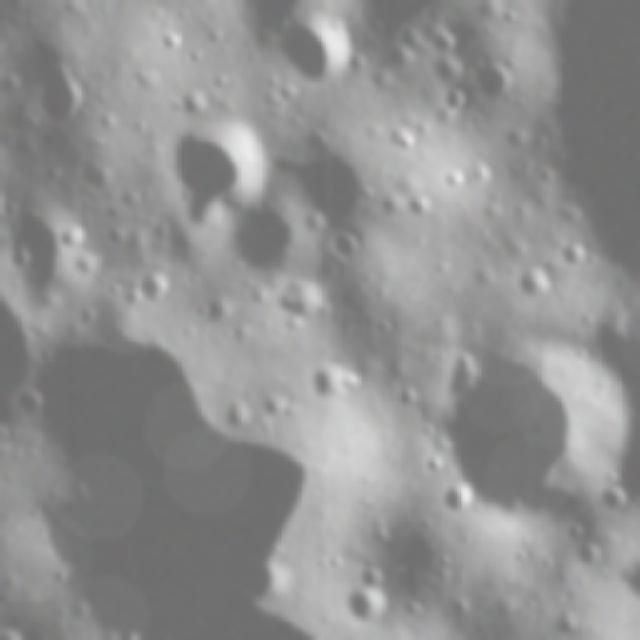crater: (410, 324, 627, 521), (161, 104, 288, 225), (0, 200, 108, 318), (285, 132, 400, 238), (215, 195, 327, 292), (16, 38, 98, 134), (280, 3, 362, 82), (312, 574, 392, 634), (463, 54, 526, 106), (135, 267, 179, 324), (304, 362, 356, 406), (612, 557, 640, 629), (554, 539, 608, 573), (435, 482, 479, 520), (508, 269, 552, 306)
